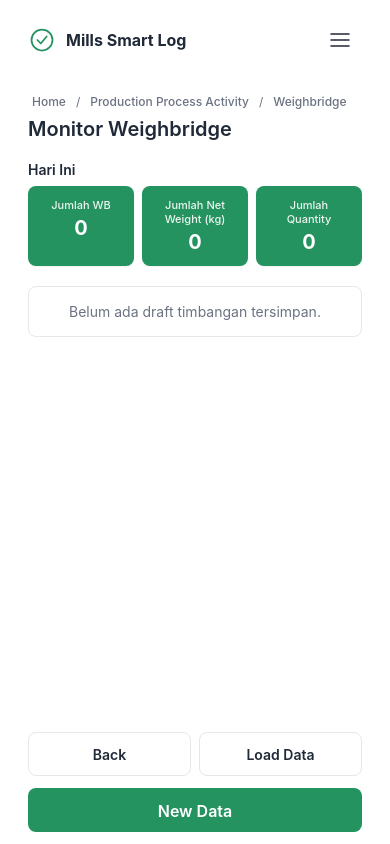
Scenario: MonitorWeighbridgeView › menu navigasi (hamburger) › opens the nav menu (Ganti Password, Logout) when the hamburger icon is tapped
Click the button with test id "hamburger-button" at (340, 40), box [318,18,362,62]
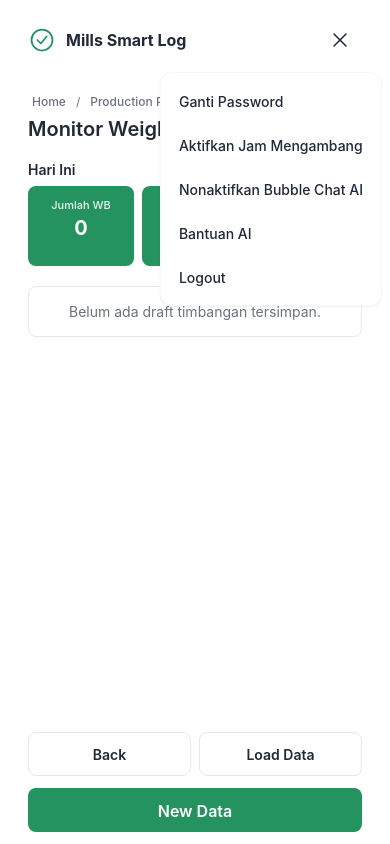
Expected: the element with test id "nav-menu" shows "Ganti Password", [167,79,375,123]
Expected: the element with test id "nav-menu" shows "Logout", [167,255,375,299]
